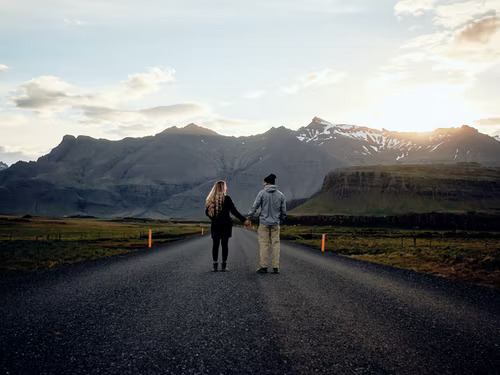person: (205, 180, 248, 272), (248, 174, 287, 274)
